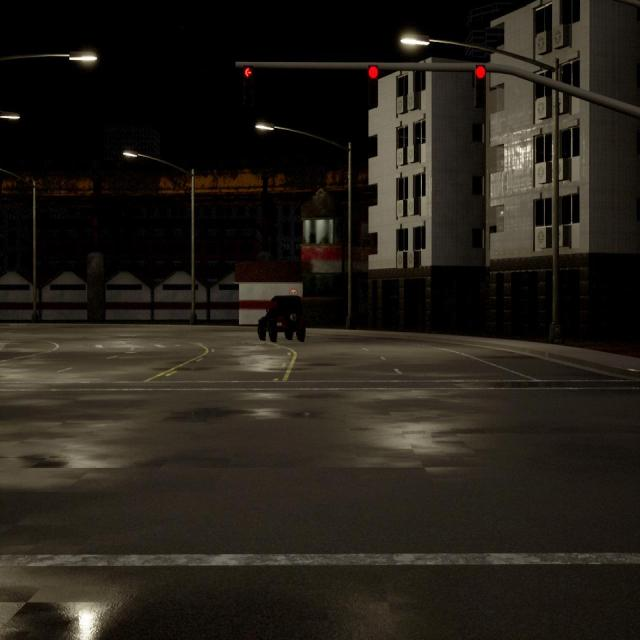Traffic_Signs: (290, 288, 298, 294)
Vehicle: (257, 295, 305, 341)
traffic_light: (367, 64, 378, 106), (476, 65, 486, 108), (244, 64, 254, 100)
